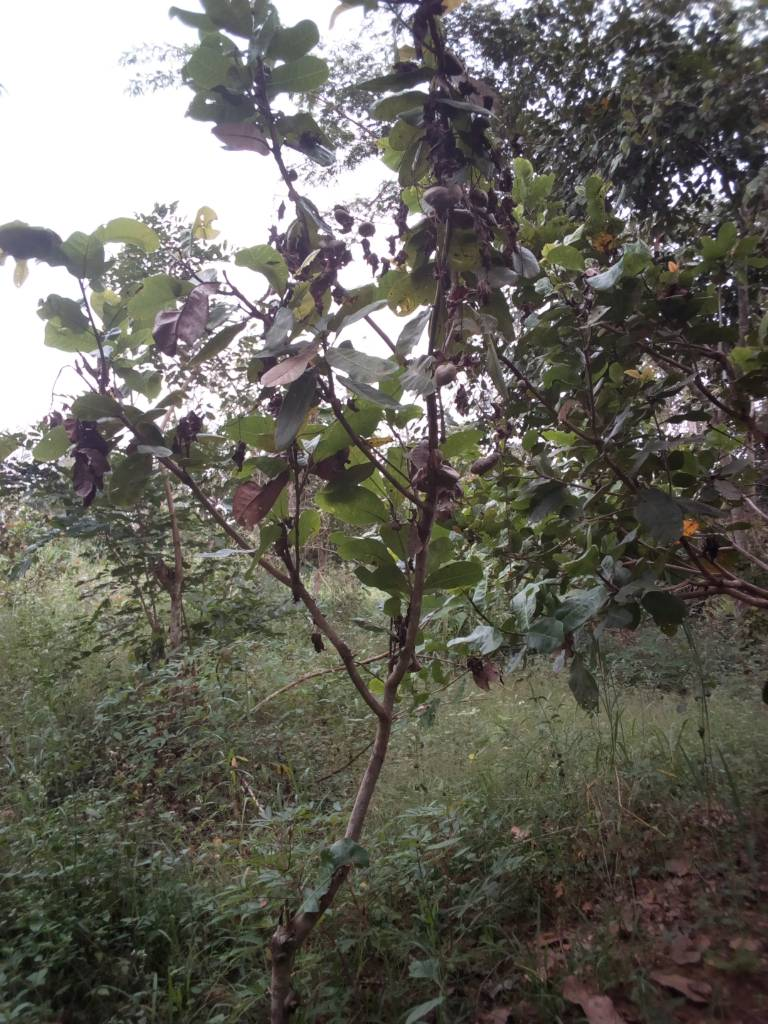Dessèchement des bourgeons: (265, 166, 392, 281), (428, 103, 511, 239), (62, 410, 119, 508), (410, 458, 461, 510)
